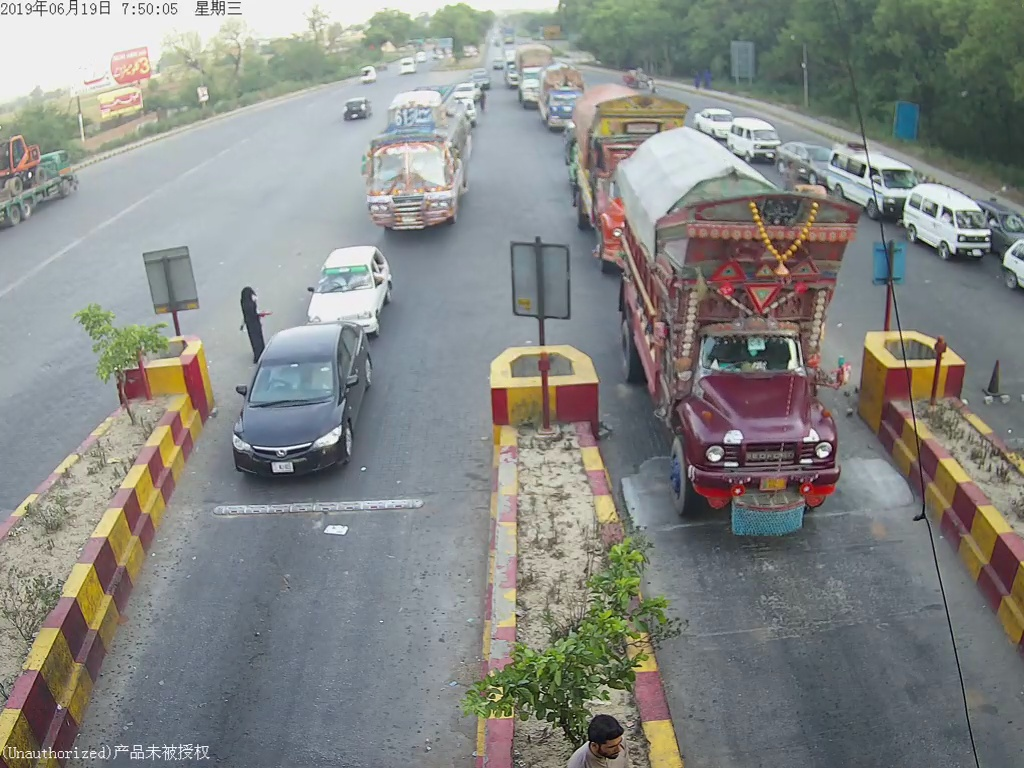Cat-1: (233, 326, 374, 484), (304, 244, 393, 327)
Cat-3: (358, 90, 478, 230)
Cat-4: (629, 137, 855, 527), (572, 79, 686, 270)
